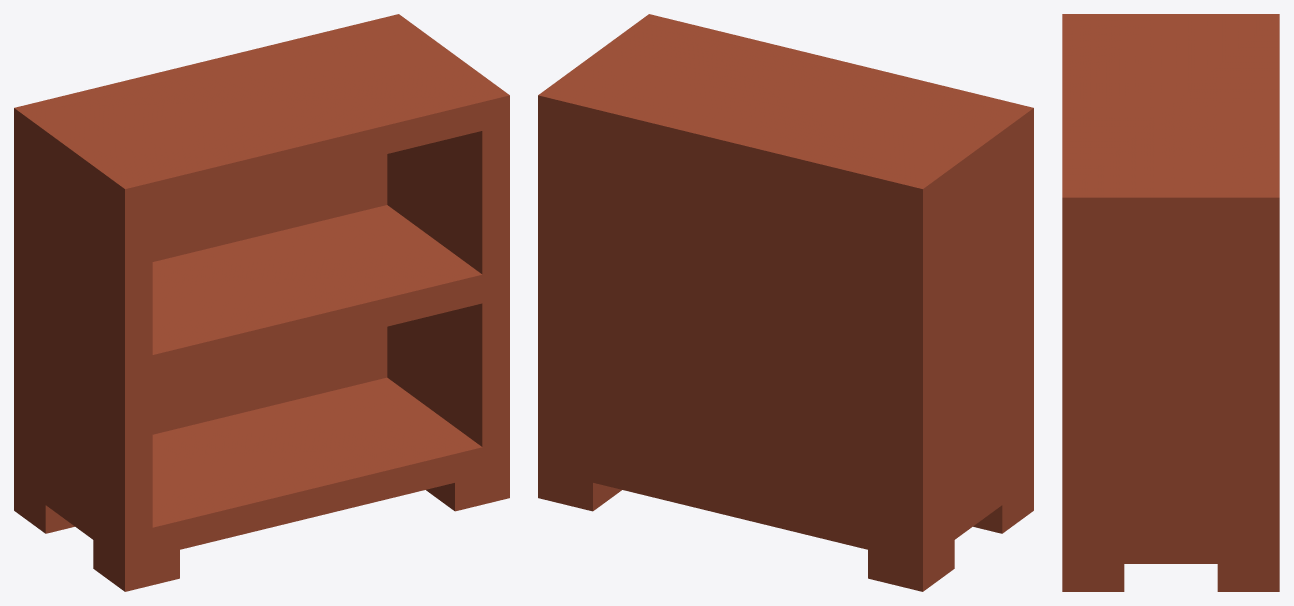
Rendered from large_bookcase_a.obj.
3 renders of one model, left to right at view 1: azimuth 30°, elevation 25°; view 2: azimuth 150°, elevation 25°; view 3: azimuth 270°, elevation 25°, orthographic. The views are drawn at different scales.
Bounding box in the file's own units: 1.4 × 1.4 × 0.7.
Materials: 1 (1 with a texture image).
